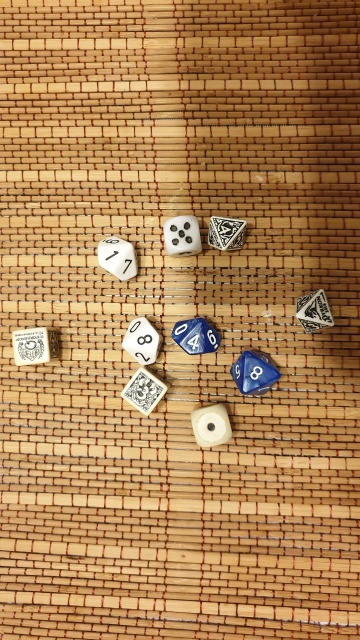d10-1: (94, 229, 142, 285)
d10-4: (170, 310, 223, 361)
d10-8: (227, 347, 282, 399), (117, 313, 167, 369)
d6-1: (188, 400, 235, 450)
d6-5: (160, 210, 205, 262)
d6p-3: (113, 364, 173, 419)
d6p-6: (9, 324, 64, 370)
d8p-1: (291, 284, 338, 341)
d8p-4: (205, 209, 250, 259)
